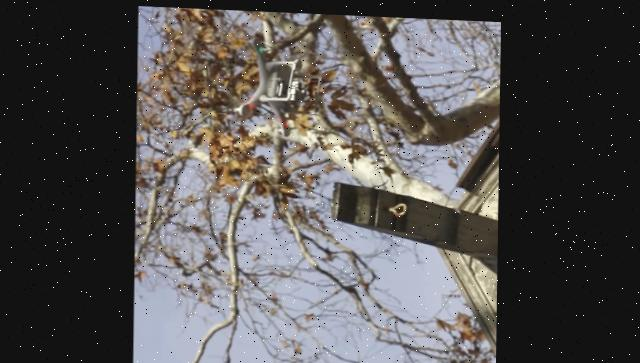drone: (231, 30, 319, 135)
